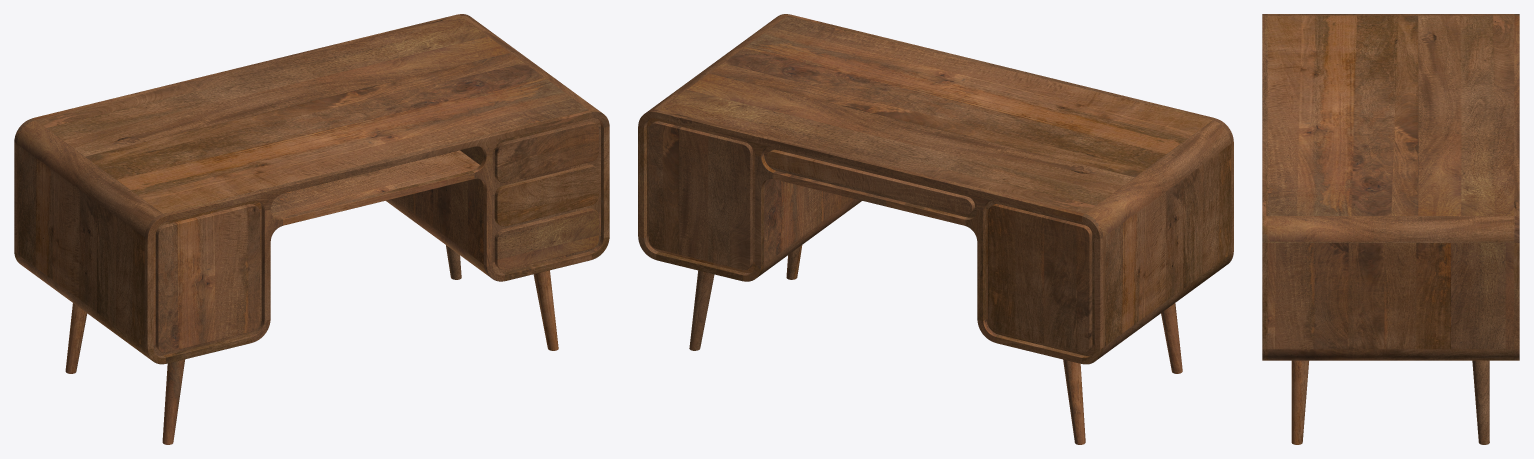
The model's file is julian-original-test.glb.
3 views of the same model, side by side, from view 1: azimuth 30°, elevation 25°; view 2: azimuth 150°, elevation 25°; view 3: azimuth 270°, elevation 25° (orthographic). The views are drawn at different scales.
Visible parts, largest first — view 1: k19_br; view 2: k19_br; view 3: k19_br.
Boxes of the visible parts, x1,y1,x2,y2 form: k19_br: (14,14,609,444); k19_br: (638,14,1233,444); k19_br: (1262,14,1519,444).
Size of the model in its own units: 1.5 by 0.76 by 0.75.
1 material, 1 textured.
